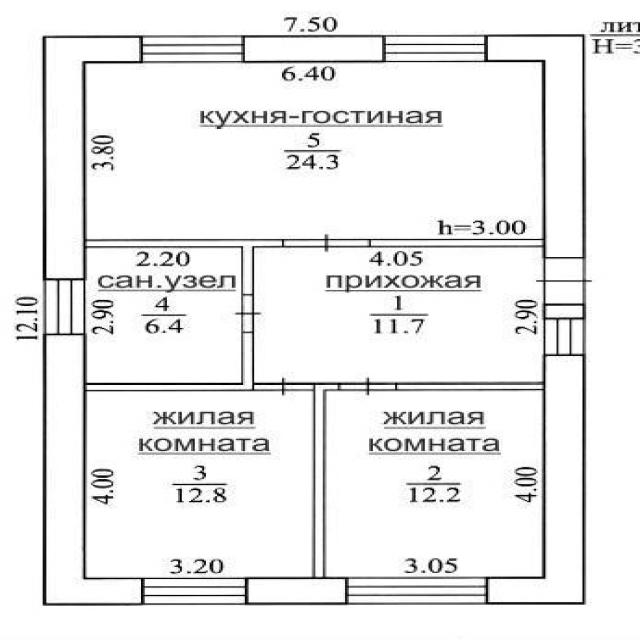Bathrooms: (89, 248, 239, 382)
Corridors: (255, 248, 542, 382)
Doors: (531, 257, 601, 305), (280, 232, 372, 255), (228, 293, 267, 333), (338, 373, 397, 398), (253, 375, 314, 398)
LBwalls: (42, 334, 143, 608), (487, 356, 587, 606), (40, 35, 141, 280), (488, 34, 586, 257), (243, 35, 385, 62), (247, 577, 347, 606), (544, 305, 586, 318)
Offices: (87, 64, 542, 238), (88, 393, 311, 577), (329, 392, 542, 576)
Walls: (86, 239, 282, 294), (85, 332, 254, 392), (312, 382, 339, 578), (371, 239, 543, 248), (396, 382, 543, 390)
Windows: (347, 577, 488, 604), (383, 35, 488, 62), (141, 35, 245, 62), (145, 578, 246, 604), (44, 278, 85, 336), (545, 318, 585, 356)
